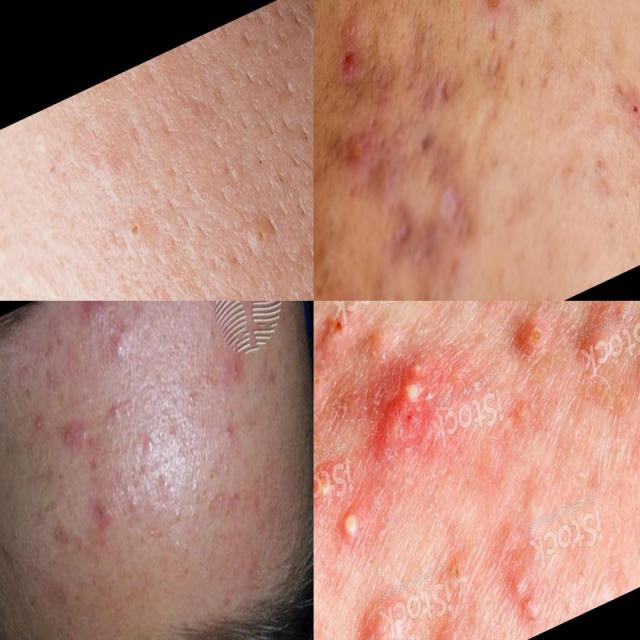7: (291, 166, 314, 263), (298, 0, 314, 59)
8: (338, 114, 384, 192), (81, 480, 118, 542), (384, 266, 449, 301), (322, 260, 372, 301), (68, 301, 118, 325), (102, 330, 124, 366)
9: (327, 489, 373, 558), (11, 382, 55, 452), (314, 441, 352, 520)
blackheads: (360, 333, 447, 472), (420, 166, 476, 248), (374, 197, 421, 266), (49, 411, 93, 468), (320, 301, 363, 359)
dark spot: (109, 187, 158, 268), (228, 195, 276, 273)
pustules: (338, 555, 423, 640), (563, 301, 636, 394), (490, 534, 549, 640), (503, 301, 548, 384), (314, 304, 330, 425)
